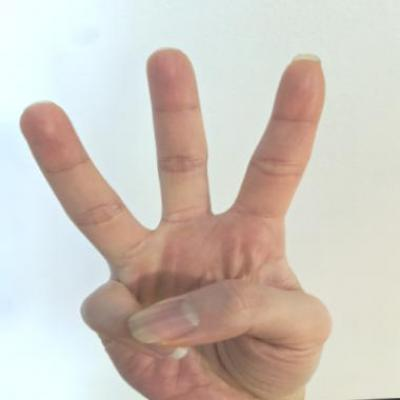hand: (2, 36, 353, 399)
